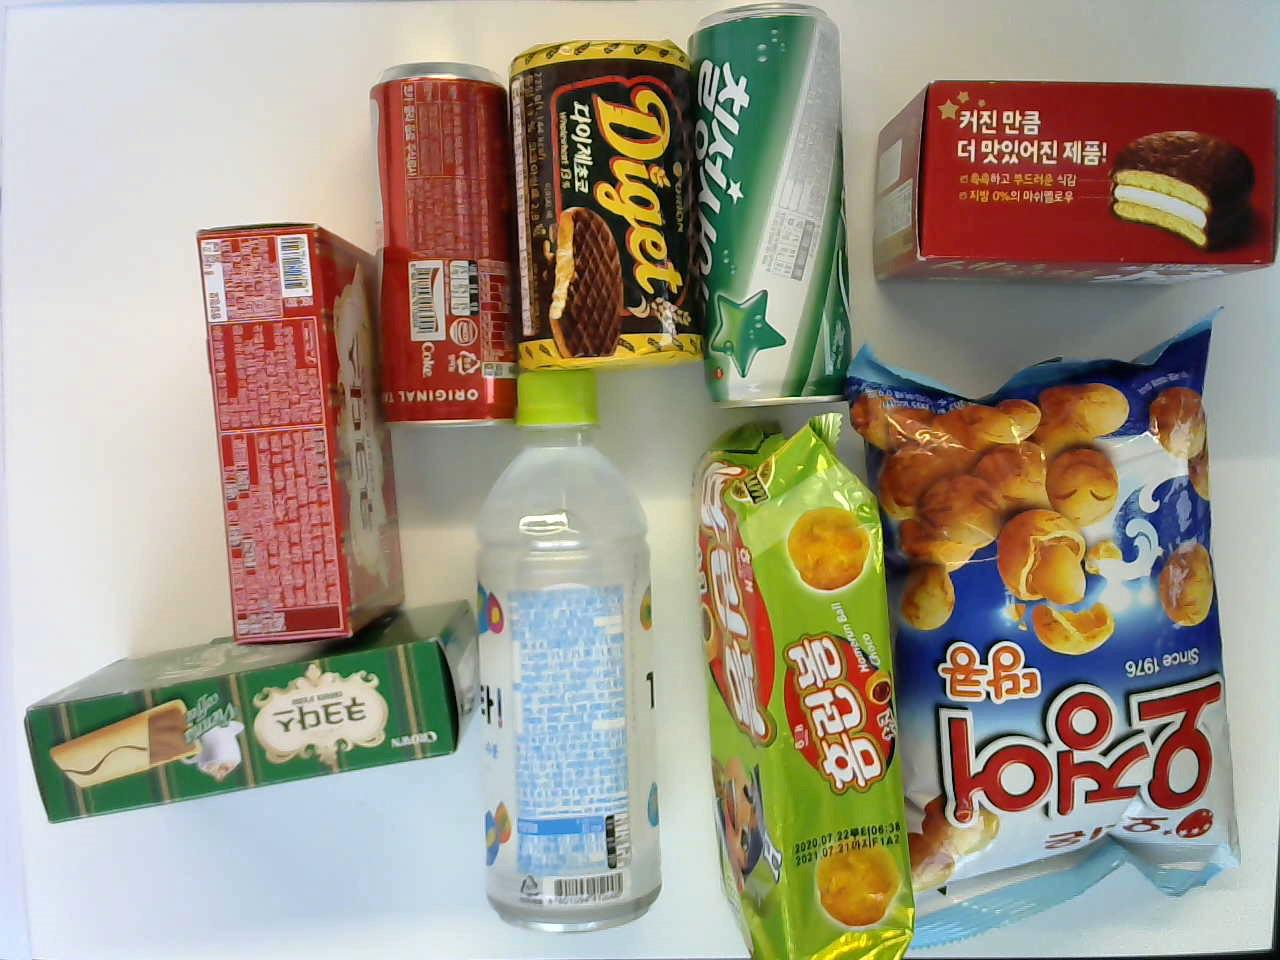chocopie: (873, 84, 1264, 289)
cidar: (694, 4, 844, 409)
coke: (363, 66, 526, 428)
couque_coffee: (21, 591, 467, 822)
couque_white: (194, 226, 400, 641)
diget_choco: (509, 49, 695, 364)
homerunball: (697, 429, 916, 960)
squid_peanut: (855, 313, 1205, 947)
toreta: (467, 368, 663, 936)
